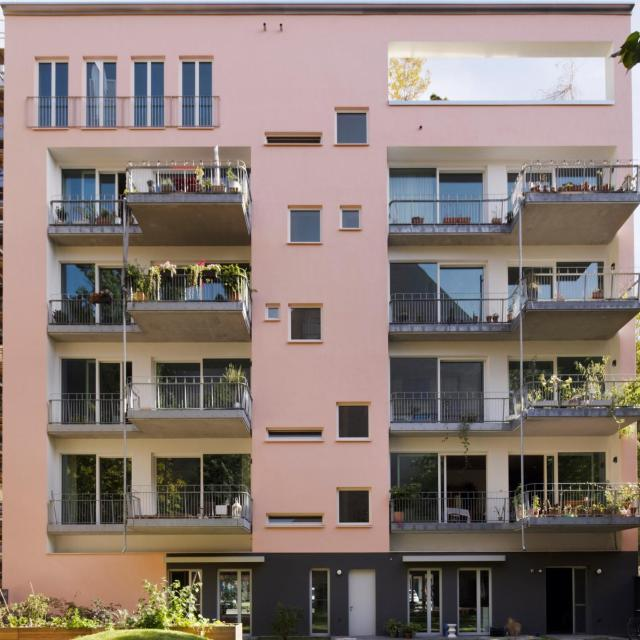door: (545, 566, 586, 634), (405, 570, 441, 634), (455, 569, 490, 633), (218, 569, 249, 635), (348, 572, 377, 635), (308, 569, 328, 633), (170, 573, 198, 612)
railing: (501, 164, 640, 223), (499, 272, 640, 324), (503, 373, 636, 422), (128, 485, 250, 522), (508, 483, 636, 517), (124, 377, 248, 410), (387, 389, 502, 423), (123, 162, 244, 192), (389, 291, 500, 323), (388, 491, 510, 520), (126, 273, 242, 300), (388, 196, 503, 223), (50, 491, 126, 523), (56, 391, 123, 424), (46, 197, 125, 224), (49, 298, 127, 322), (82, 96, 115, 129), (130, 96, 162, 126), (178, 95, 210, 125), (36, 96, 66, 127)
window: (505, 169, 598, 215), (387, 452, 486, 491), (507, 452, 607, 487), (388, 357, 485, 391), (156, 454, 248, 486), (387, 262, 481, 292), (388, 168, 483, 197), (57, 356, 129, 392), (61, 455, 127, 493), (59, 167, 124, 200), (59, 263, 122, 296), (155, 359, 248, 377), (510, 359, 610, 373), (336, 489, 370, 524), (83, 61, 115, 98), (131, 59, 163, 96), (178, 61, 211, 95), (36, 62, 65, 98), (336, 406, 367, 438), (504, 263, 600, 273), (289, 308, 318, 340), (335, 113, 365, 143), (289, 212, 318, 242), (267, 515, 321, 523), (266, 135, 322, 142), (341, 210, 358, 229), (267, 431, 319, 437), (266, 308, 276, 319)
